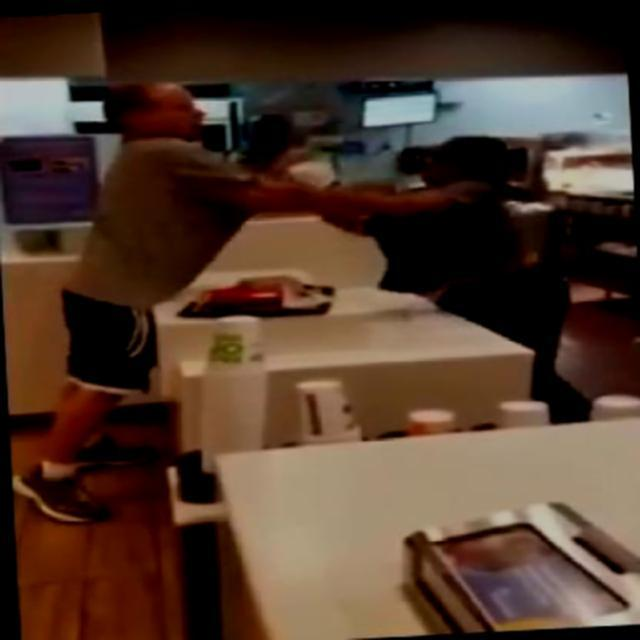fight: (51, 60, 558, 309)
